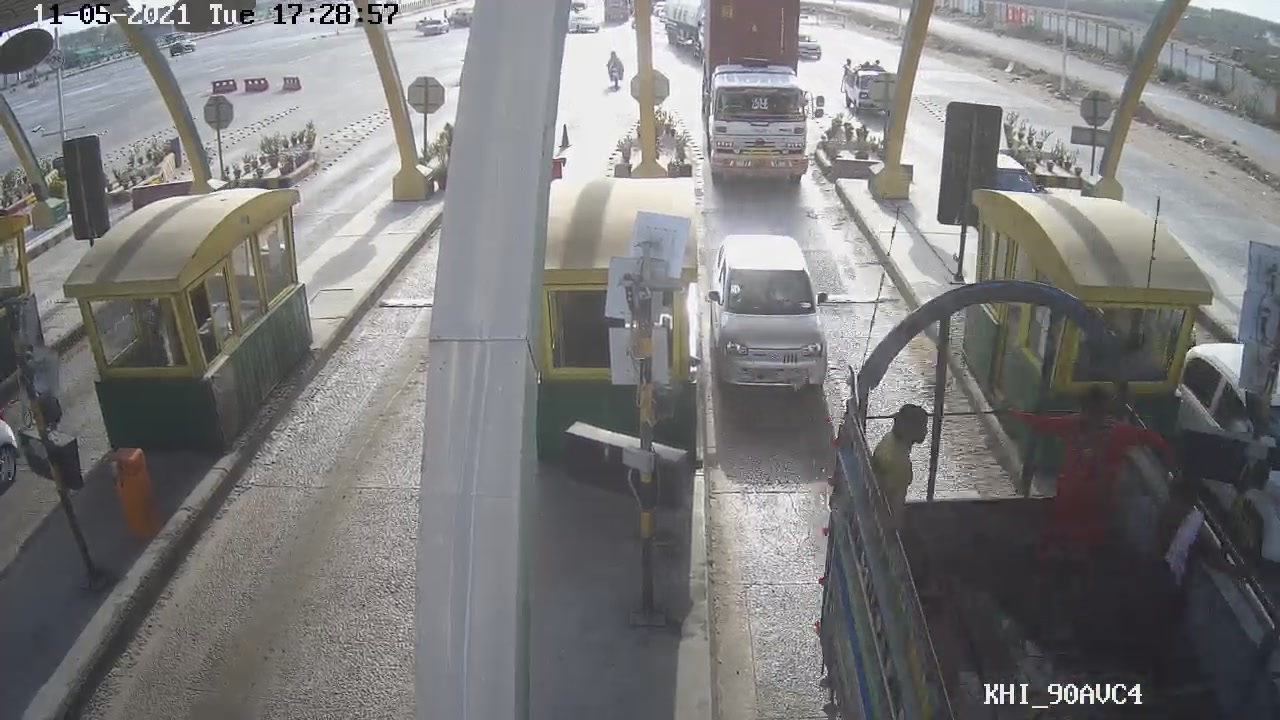F1: (705, 229, 833, 396)
F6: (688, 20, 836, 189)
